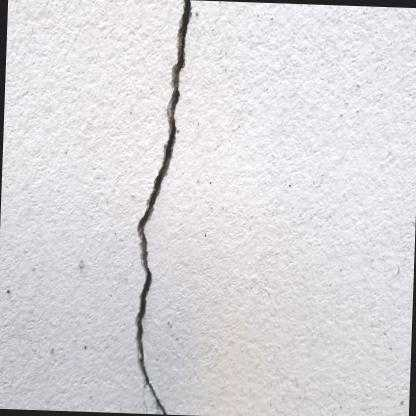crack: (133, 0, 191, 415)
